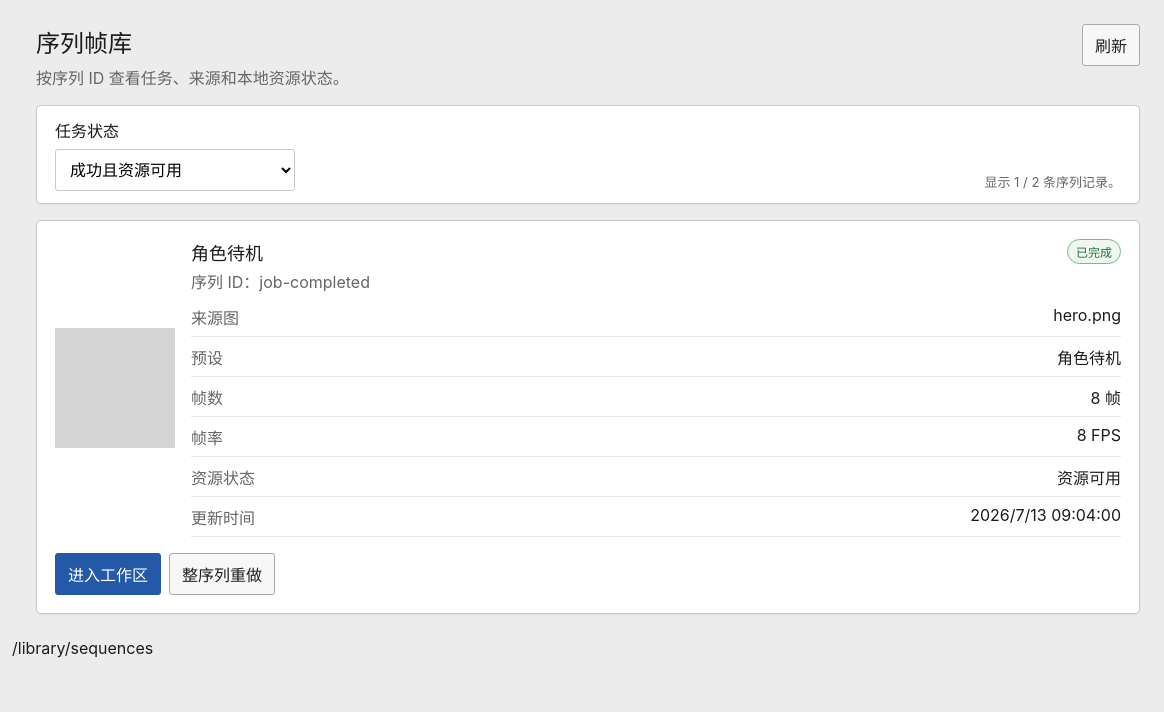
Test: SequenceLibraryPage › defaults to usable results and exposes all task statuses on demand
Check: the text "序列 ID：job-completed" is shown, box [191,269,370,293]
Check: the text "序列 ID：job-failed" is not shown
Select "全部任务" in the dropdown named "序列任务状态" at (175, 170), box [55,149,295,191]
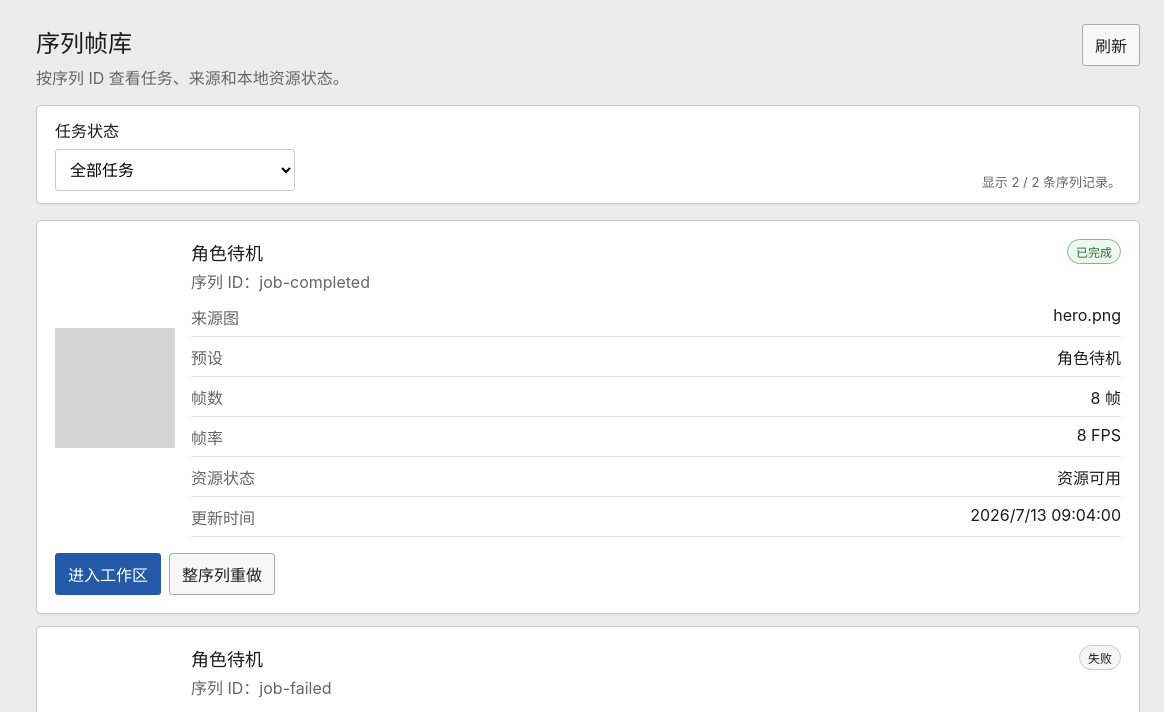
Check: the text "序列 ID：job-failed" is shown, box [191,675,332,699]
